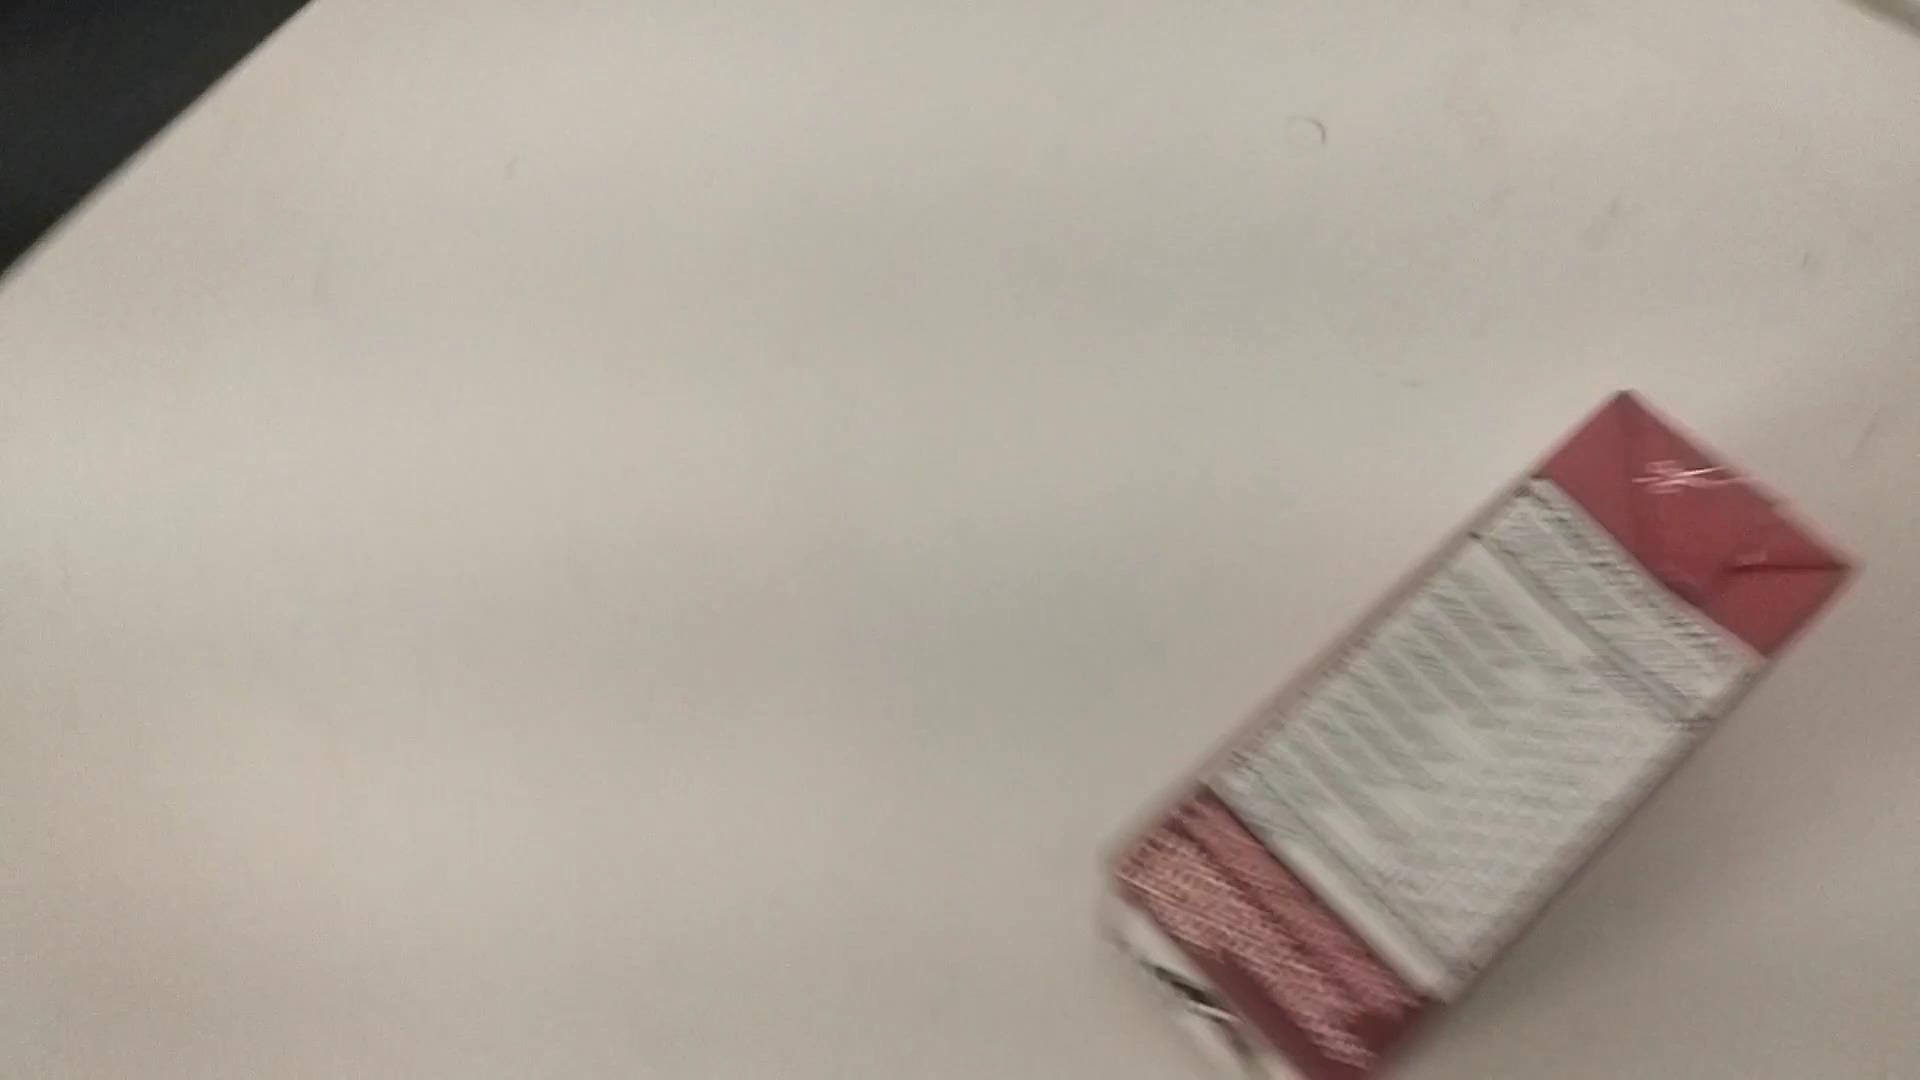tomate: (1102, 389, 1865, 1080)
